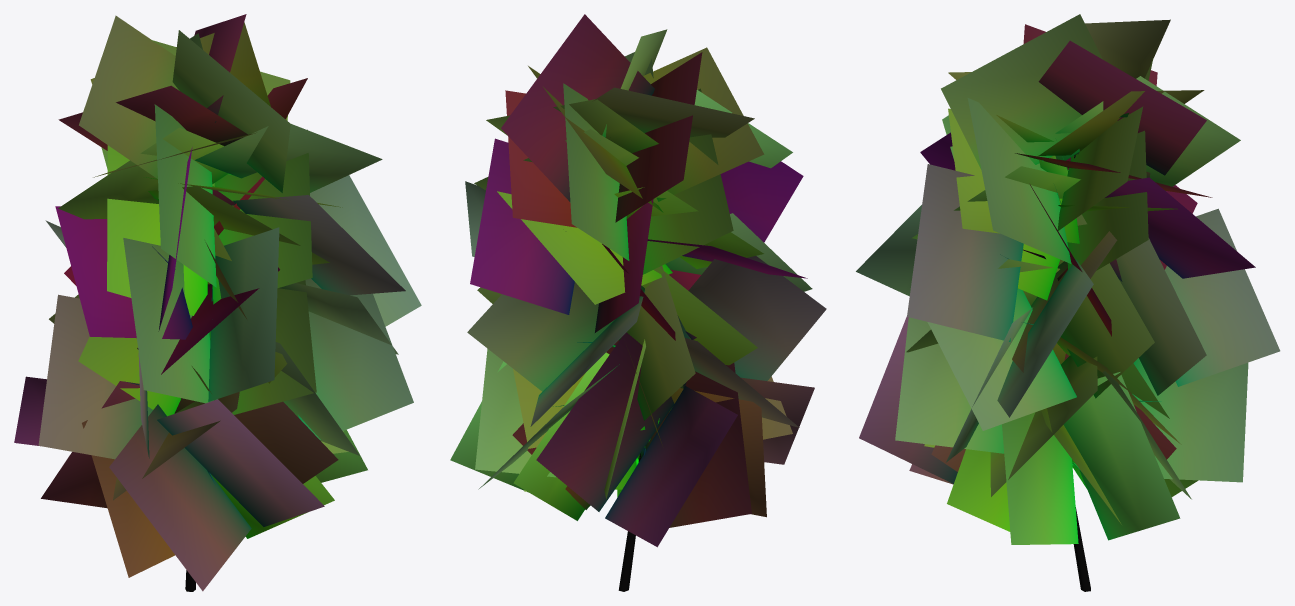
File: URP_P15_Tree_10_LOD_3.fbx
3 renders of one model, left to right at view 1: azimuth 30°, elevation 25°; view 2: azimuth 150°, elevation 25°; view 3: azimuth 270°, elevation 25°, orthographic. The views are drawn at different scales.
Parts seen in each view (by area): view 1: Tree_10_LOD_3; view 2: Tree_10_LOD_3; view 3: Tree_10_LOD_3.
Boxes of the visible parts, left/top/right/bottom form: Tree_10_LOD_3: left=14, top=14, right=421, bottom=591; Tree_10_LOD_3: left=450, top=14, right=826, bottom=591; Tree_10_LOD_3: left=856, top=14, right=1280, bottom=591.
Size of the model in its own units: 494 by 750 by 504.
